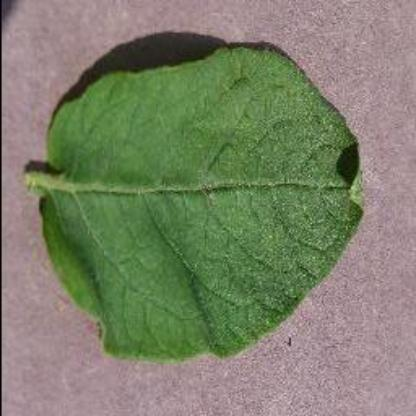Healthy-plant: (24, 40, 374, 362)
